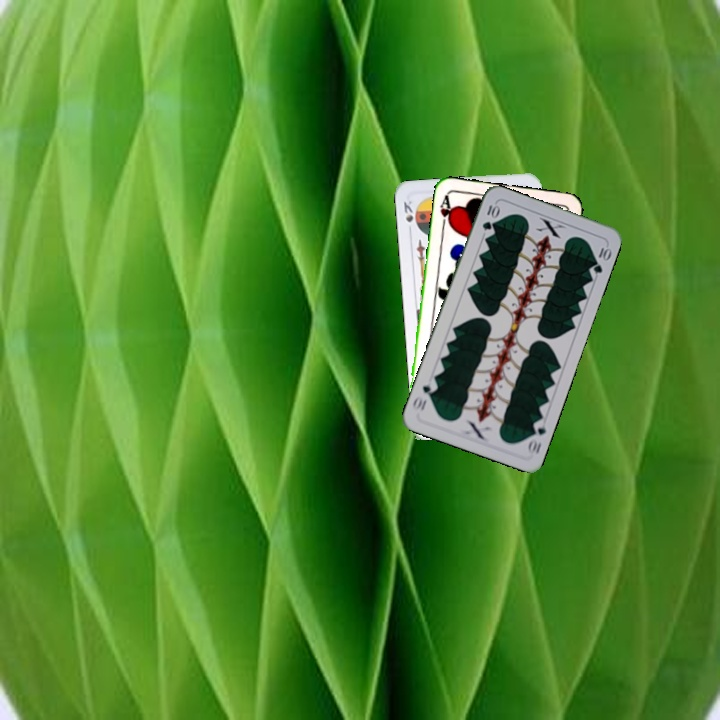G10: (524, 416, 548, 457), (478, 201, 501, 233)
HA: (436, 191, 456, 232)
SK: (400, 197, 419, 229)
